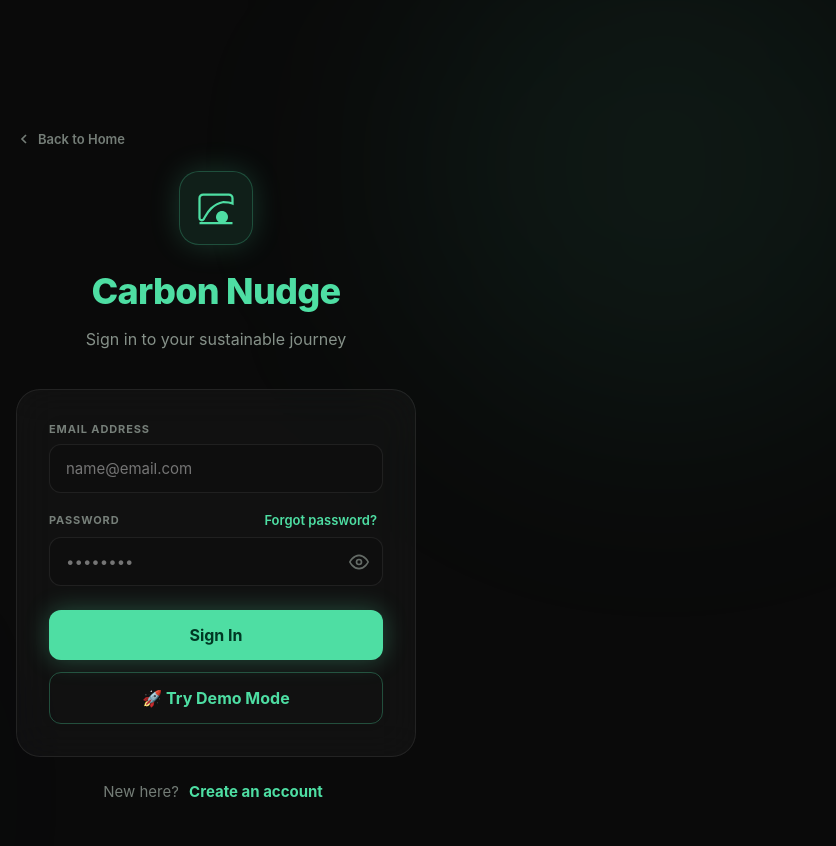
Login component › shows error message on failed login
Type "bad@example.com" into the field labelled "Email Address". click: {"x": 216, "y": 468}
box: [49,444,383,493]
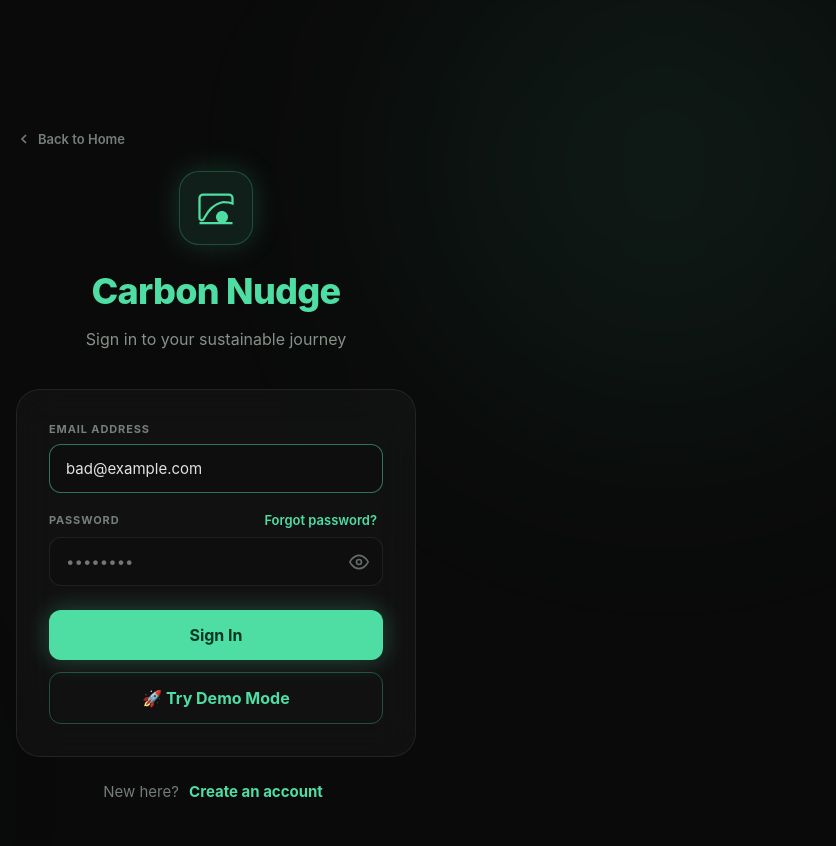
Type "wrongpass" into the password field labelled "Password". click: {"x": 216, "y": 562}
box: [49,537,383,586]
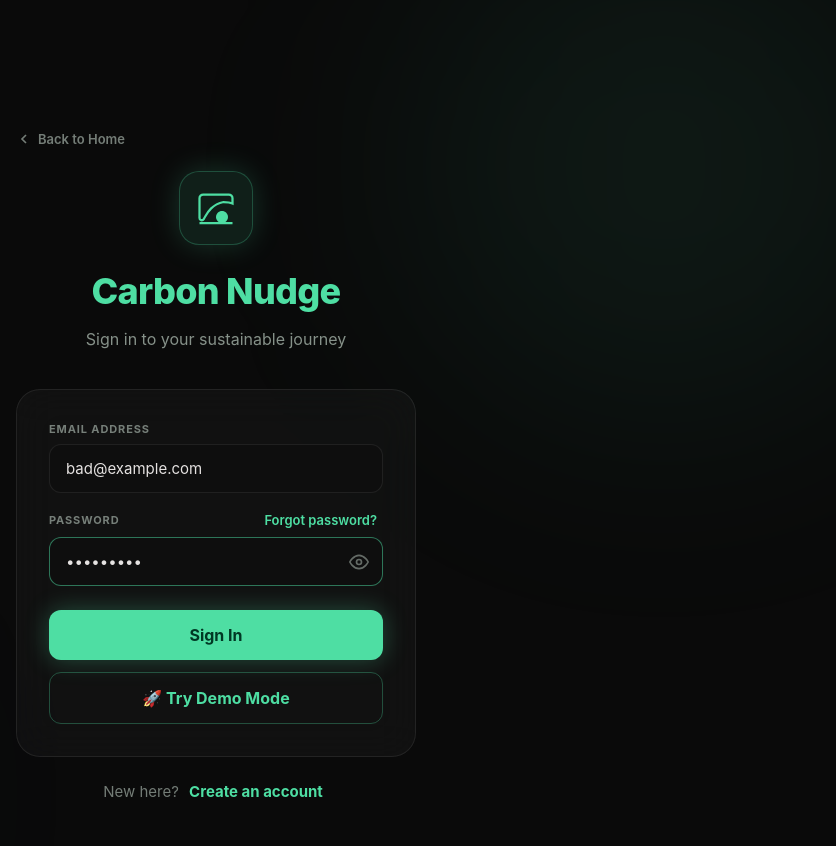
Click the button "Sign In". click: {"x": 216, "y": 635}
box: [49,610,383,660]
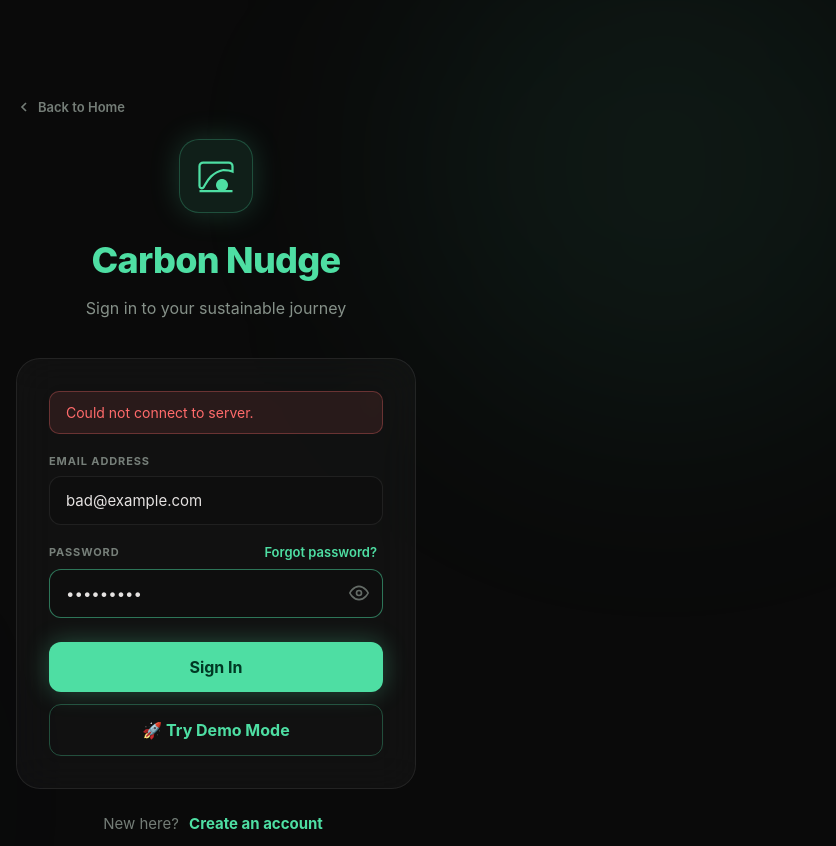
Now the message "Could not connect to server." is shown, box [49,390,383,434]
